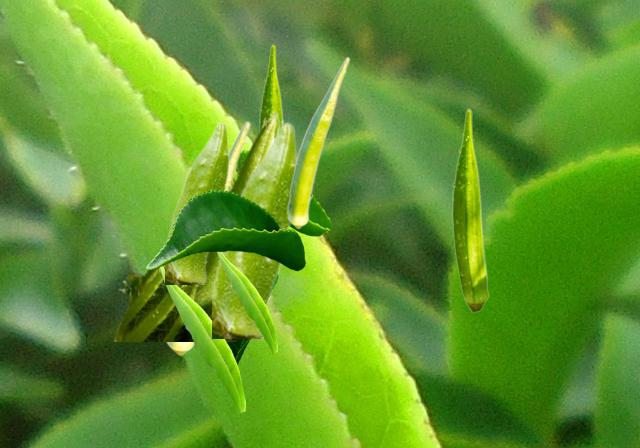okra: (111, 110, 283, 340), (165, 120, 250, 355), (212, 120, 298, 337), (287, 56, 349, 228), (165, 120, 229, 283), (452, 108, 488, 312), (259, 44, 283, 129)
